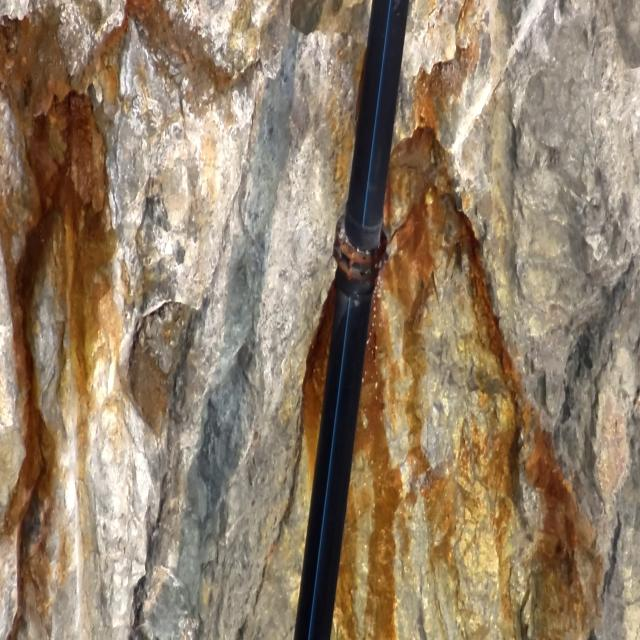leak: (365, 254, 394, 415)
